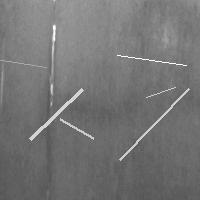scratches: (115, 83, 194, 164), (25, 84, 87, 144), (112, 50, 191, 70), (46, 22, 58, 128), (55, 114, 98, 143), (0, 53, 51, 72), (141, 82, 180, 102)
